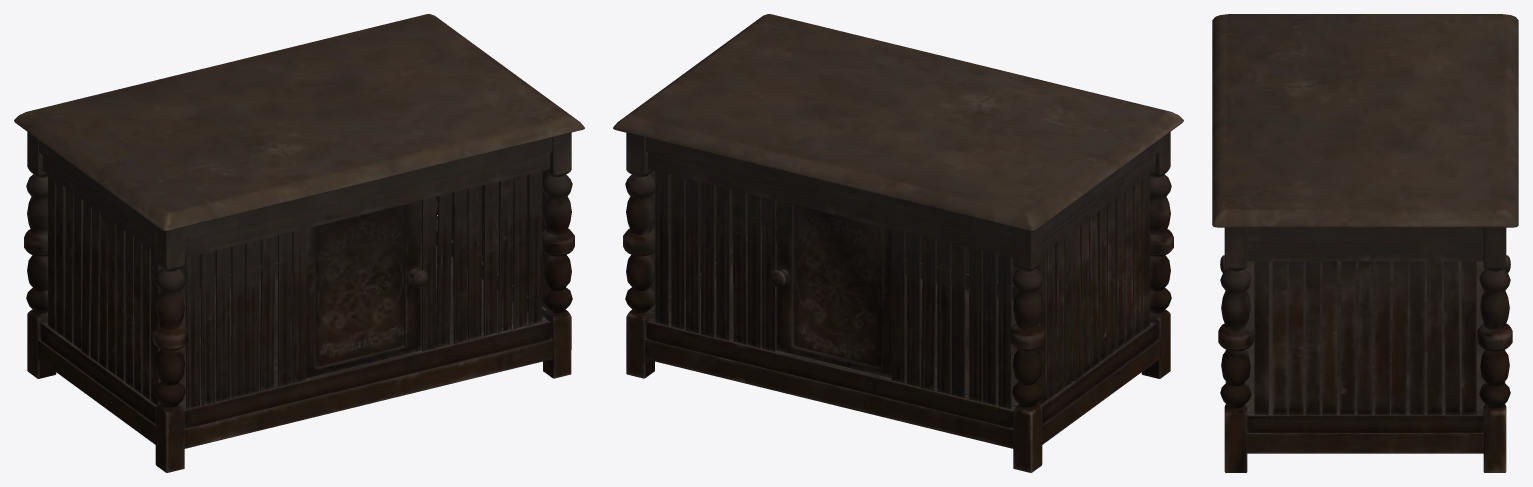
Rendered from gallinera_table.glb.
3 views of the same model, side by side, from view 1: azimuth 30°, elevation 25°; view 2: azimuth 150°, elevation 25°; view 3: azimuth 270°, elevation 25° (orthographic).
Visible parts, largest first — view 1: gallinera_table; view 2: gallinera_table; view 3: gallinera_table.
Boxes of the visible parts, x1,y1,x2,y2 form: gallinera_table: [14, 14, 584, 472]; gallinera_table: [613, 14, 1183, 472]; gallinera_table: [1212, 14, 1518, 472].
Bounding box in the file's own units: 0.8301 × 0.4878 × 0.5183.
Materials: 1 (1 with a texture image).
